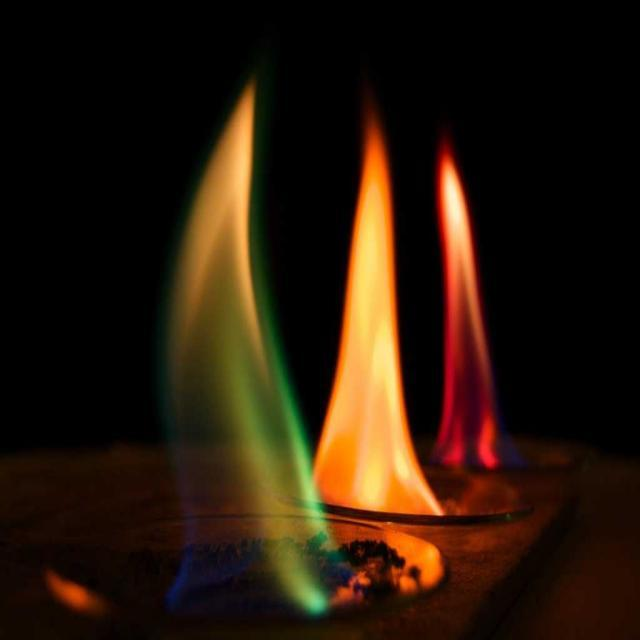Fire: (162, 211, 292, 583), (350, 184, 403, 514), (443, 206, 488, 468)
